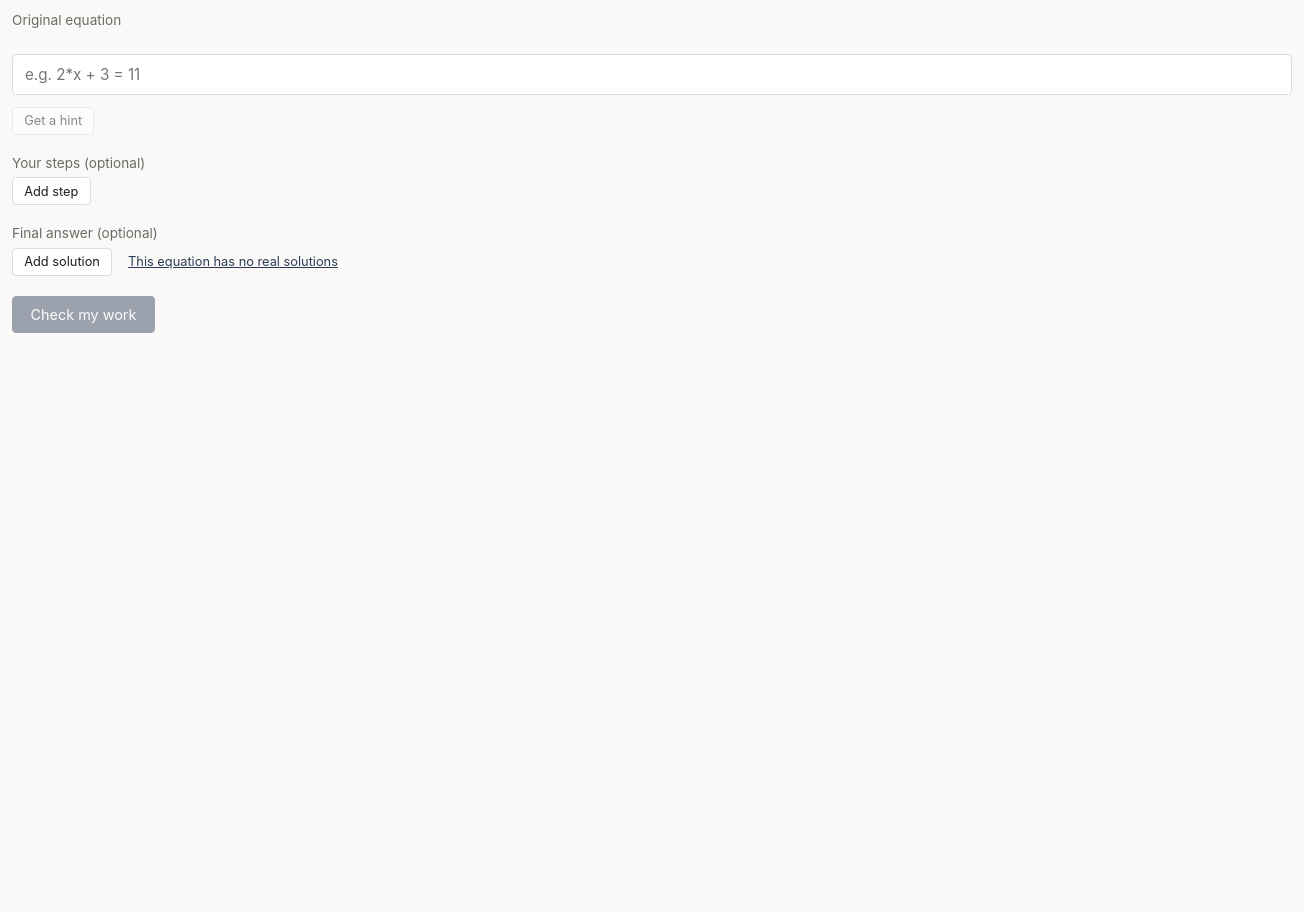
Test: CheckWorkForm › highlights the first provably incorrect step
The image size is (1304, 912).
In the field labelled "Original equation": (652, 74) [12,54,1292,95], type "2*x + 3 = 11"
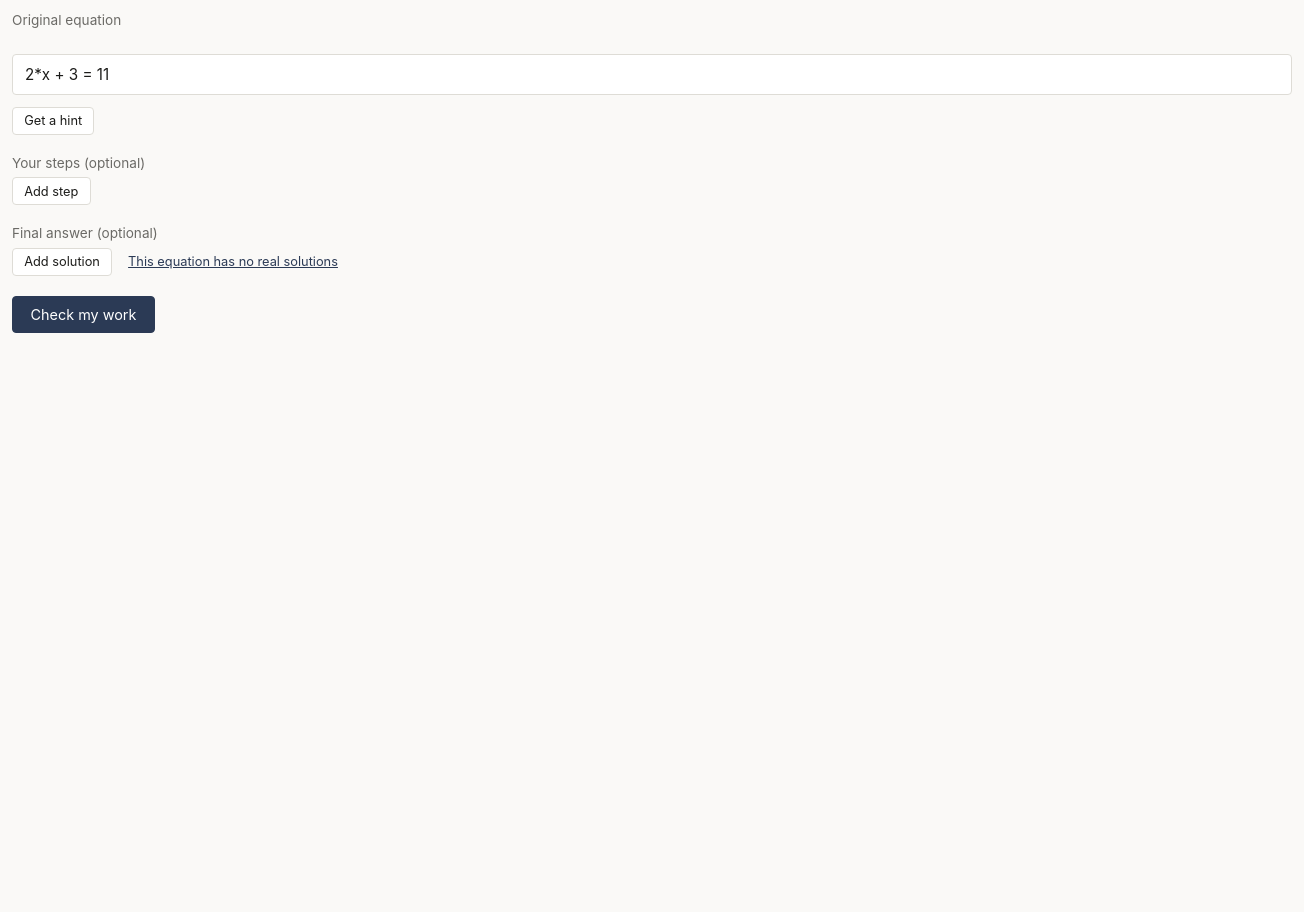
Click the button "Check my work": (84, 314) [12,296,155,332]
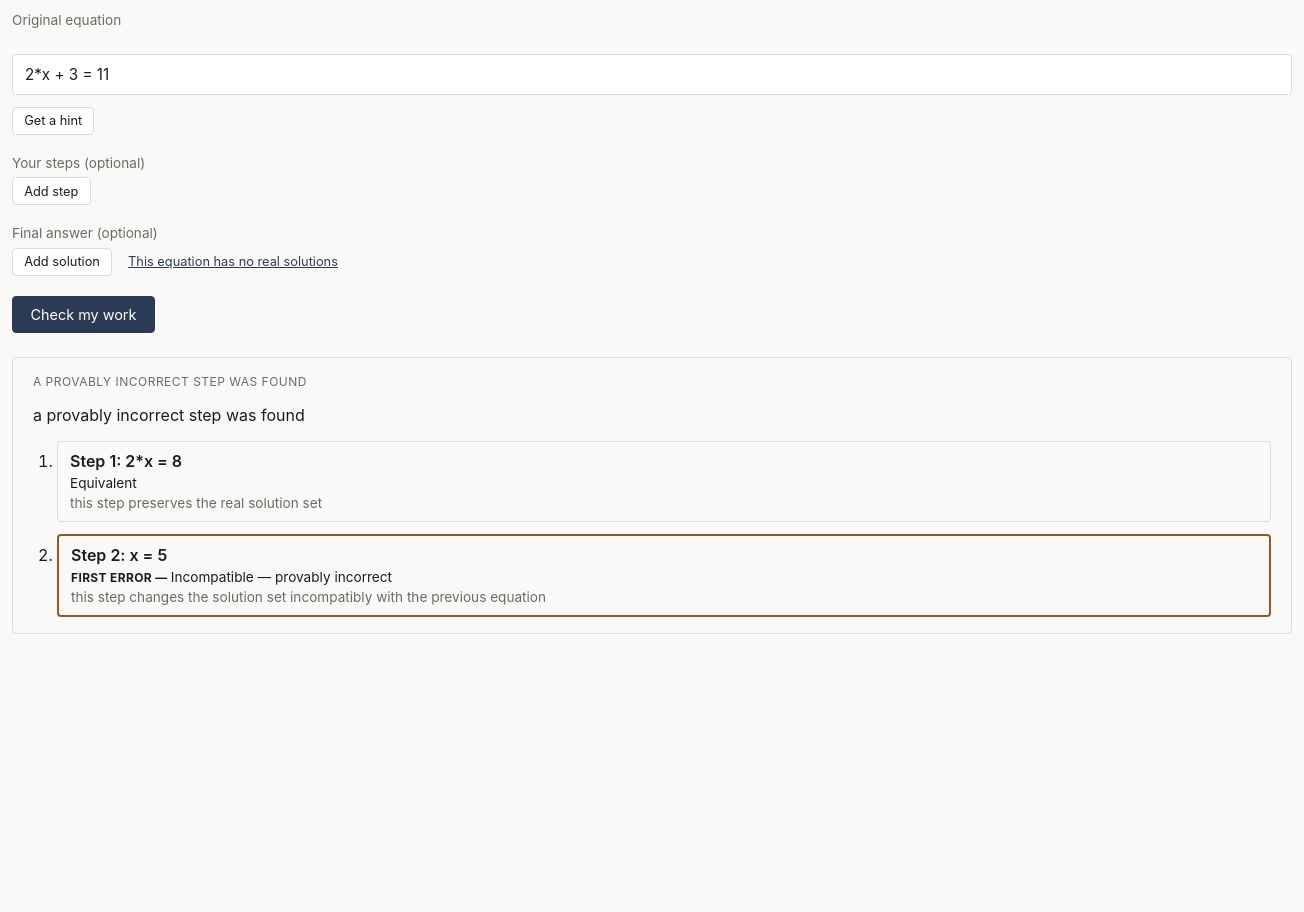
Check: the text "First error —" is shown, box [71,570,171,585]
Check: the text "Incompatible — provably incorrect" is shown, box [171,569,392,585]
Check: the text "Equivalent" is shown, box [70,475,137,491]
